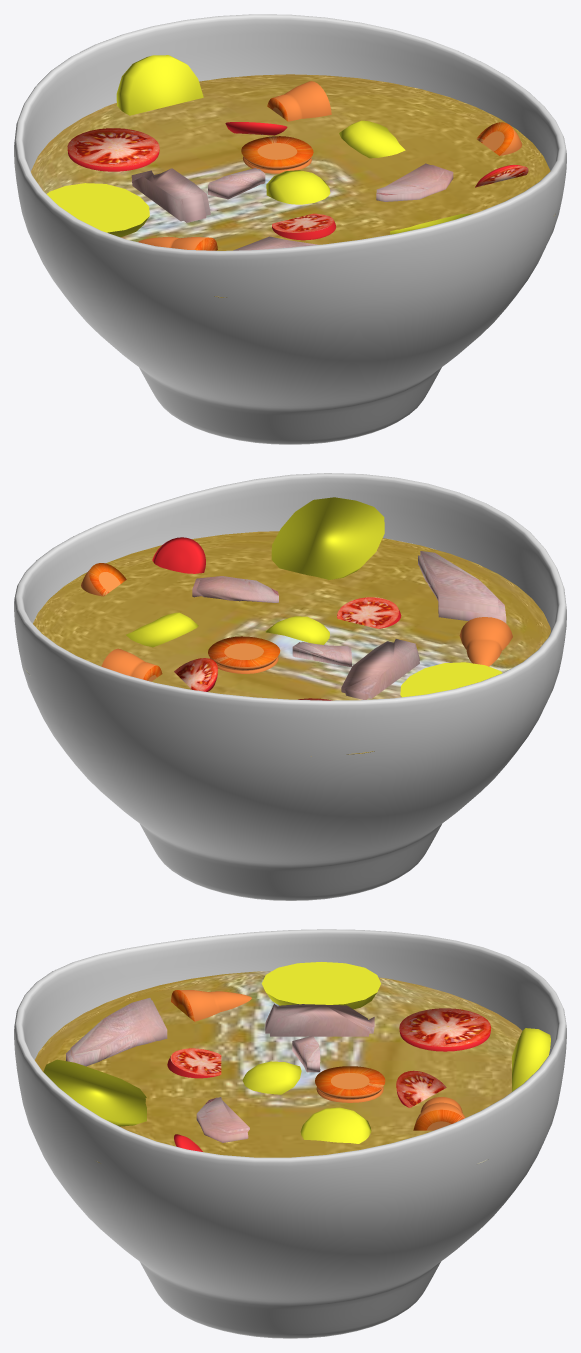
The model's file is mangkok isi sop.fbx.
3 views of the same model, one above another, from view 1: azimuth 30°, elevation 25°; view 2: azimuth 150°, elevation 25°; view 3: azimuth 270°, elevation 25° (orthographic).
Visible parts, largest first — view 1: mangkok, air kaldu, kentang.013, kentang.015, potongan.004, potongan 003, wortel .006, potongan 03, kentang.010, potongan 2.002, kentang.001, potongan.003 (+6 smaller); view 2: mangkok, air kaldu, kentang.011, potongan 0003, potongan 003, wortel .006, kentang.015, potongan.005, potongan 03, potongan.003, potongan.001, kentang.001 (+5 smaller); view 3: mangkok, air kaldu, kentang.015, kentang.011, potongan 0003, potongan.004, potongan 003, wortel .006, kentang.001, potongan.005, kentang.013, potongan 03 (+5 smaller).
Part boxes in pixels (left/top/right/bottom): mangkok: left=14, top=14, right=566, bottom=444; air kaldu: left=31, top=74, right=555, bottom=297; kentang.013: left=116, top=55, right=203, bottom=115; kentang.015: left=46, top=183, right=149, bottom=237; potongan.004: left=67, top=128, right=159, bottom=171; potongan 003: left=131, top=168, right=210, bottom=222; wortel .006: left=241, top=136, right=313, bottom=173; potongan 03: left=376, top=163, right=453, bottom=201; kentang.010: left=266, top=170, right=330, bottom=204; potongan 2.002: left=267, top=81, right=331, bottom=121; kentang.001: left=339, top=120, right=405, bottom=158; potongan.003: left=272, top=213, right=335, bottom=240; mangkok: left=14, top=473, right=566, bottom=900; air kaldu: left=25, top=531, right=550, bottom=756; kentang.011: left=271, top=497, right=384, bottom=580; potongan 0003: left=418, top=551, right=506, bottom=623; potongan 003: left=341, top=639, right=419, bottom=699; wortel .006: left=208, top=636, right=280, bottom=673; kentang.015: left=400, top=662, right=502, bottom=697; potongan.005: left=459, top=617, right=512, bottom=666; potongan 03: left=192, top=576, right=278, bottom=602; potongan.003: left=337, top=597, right=401, bottom=628; potongan.001: left=152, top=537, right=205, bottom=573; kentang.001: left=126, top=612, right=198, bottom=647; mangkok: left=14, top=929, right=566, bottom=1338; air kaldu: left=35, top=971, right=522, bottom=1164; kentang.015: left=261, top=962, right=381, bottom=1009; kentang.011: left=43, top=1059, right=146, bottom=1126; potongan 0003: left=66, top=998, right=167, bottom=1066; potongan.004: left=399, top=1008, right=491, bottom=1051; potongan 003: left=265, top=1003, right=374, bottom=1036; wortel .006: left=315, top=1066, right=385, bottom=1102; kentang.001: left=300, top=1107, right=371, bottom=1143; potongan.005: left=171, top=990, right=251, bottom=1021; kentang.013: left=512, top=1028, right=550, bottom=1091; potongan 03: left=196, top=1097, right=249, bottom=1142.
Bounding box in the file's own units: 727 × 383 × 732.
10 materials, 4 textured.
